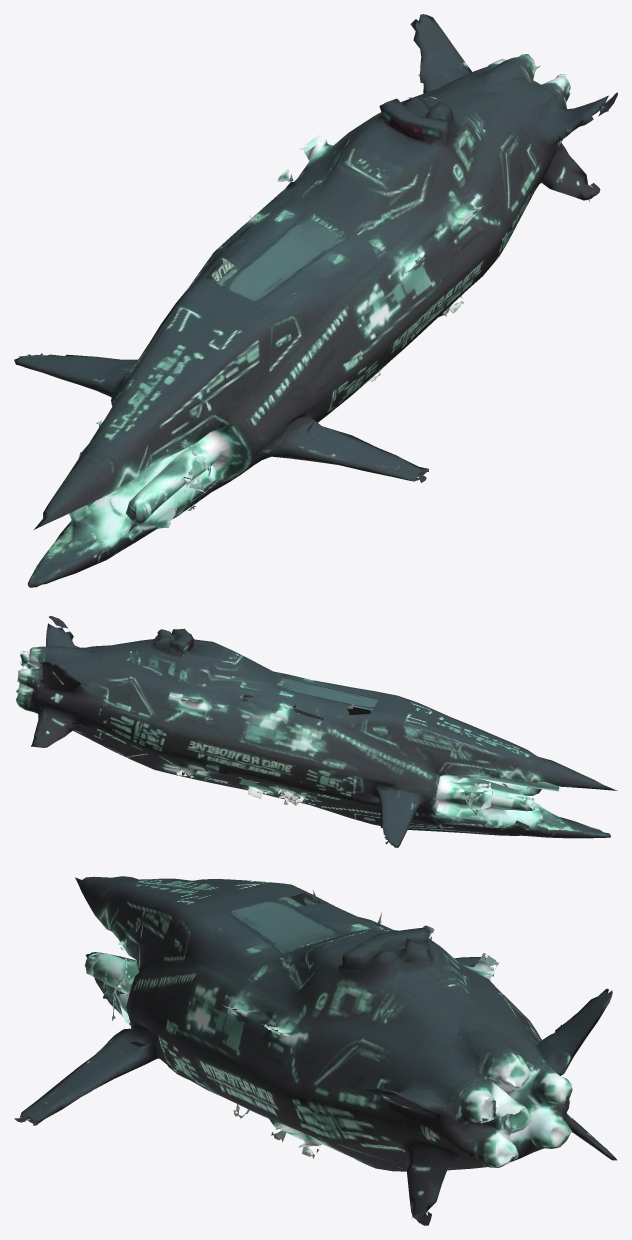
The model's file is sous-marin_tripo.glb.
3 renders of one model, top to bottom at view 1: azimuth 30°, elevation 25°; view 2: azimuth 150°, elevation 25°; view 3: azimuth 270°, elevation 25°, orthographic. The views are drawn at different scales.
Parts seen in each view (by area): view 1: tripo_node_c6c29b0b-df3e-405b-9734-4329ee543113; view 2: tripo_node_c6c29b0b-df3e-405b-9734-4329ee543113; view 3: tripo_node_c6c29b0b-df3e-405b-9734-4329ee543113.
Boxes of the visible parts, <box> form: tripo_node_c6c29b0b-df3e-405b-9734-4329ee543113: <box>14,14,617,587</box>; tripo_node_c6c29b0b-df3e-405b-9734-4329ee543113: <box>16,616,617,847</box>; tripo_node_c6c29b0b-df3e-405b-9734-4329ee543113: <box>14,876,617,1225</box>.
Bounding box in the file's own units: 0.9859 × 0.3533 × 0.5989.
Materials: 1 (1 with a texture image).
